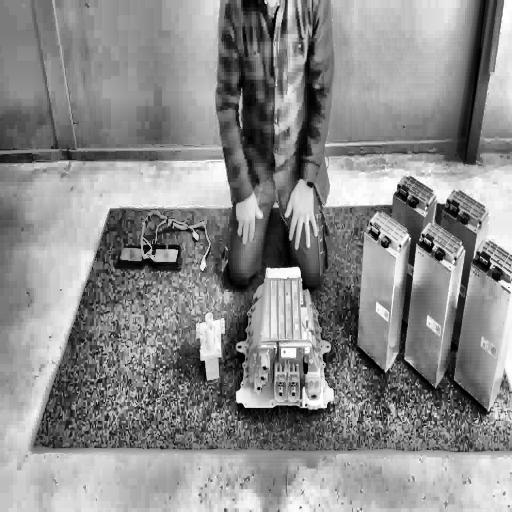battery_module: (403, 220, 468, 389), (453, 237, 511, 411), (356, 208, 412, 375), (443, 186, 490, 235), (394, 173, 438, 216)
bms_unit: (233, 270, 336, 422)
connector: (191, 309, 228, 382)
high_volt_cable: (138, 204, 212, 276)
